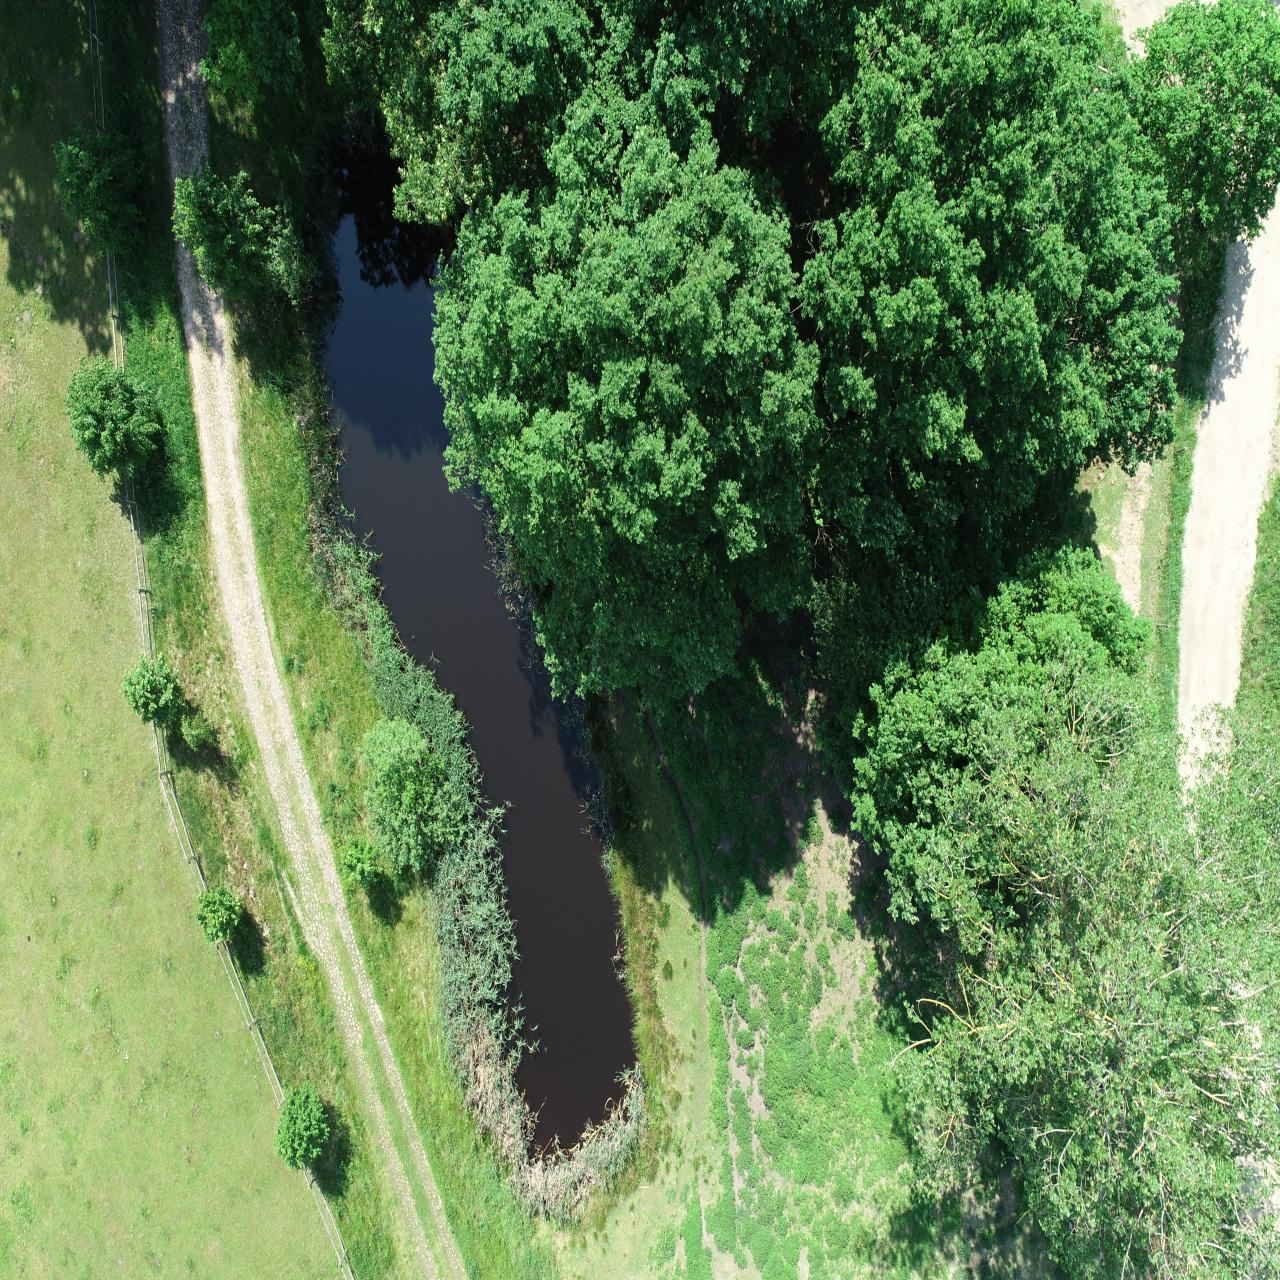cow: (1121, 1212, 1152, 1268)
